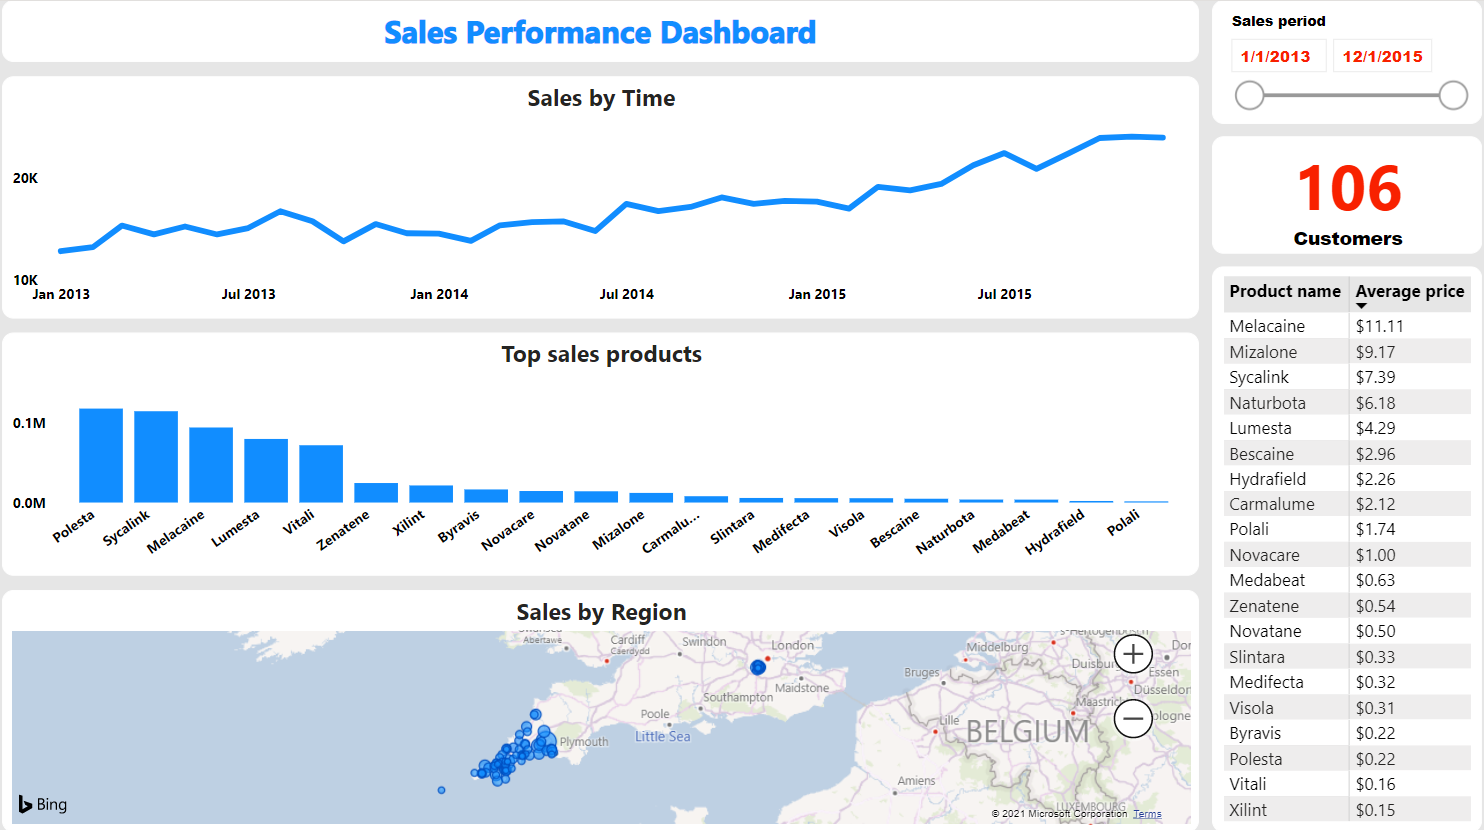

What the dashboard file says about the page in this screenshot:
{"tool":"powerbi","page":{"name":"Page 1","canvas":[1280,720],"ordinal":0},"visuals":[{"type":"lineChart","title":"Sales by Time","fields":{"Y":["Sum(talent5_0828452340 Sales.Sales)"],"Category":["talent5_0828452340 Sales.Date"]},"box":[0,65.8,1035.2,209.7],"z":0},{"type":"columnChart","title":"Top sales products","fields":{"Category":["talent5_0828452340 Sales.Product name"],"Y":["Sum(talent5_0828452340 Sales.Sales)"]},"box":[0,287.9,1035.2,210],"z":1000},{"type":"map","title":"Sales by Region","fields":{"Y":["talent5_0828452340 Sales.Latitude"],"X":["talent5_0828452340 Sales.Longitude"],"Size":["Sum(talent5_0828452340 Sales.Sales)"]},"box":[0,510.3,1035.2,209.7],"z":2000},{"type":"card","fields":{"Values":["Count(talent5_0828452340 Sales.Customer ID)"]},"box":[1046.5,118,233.7,101.7],"z":3000},{"type":"tableEx","fields":{"Values":["talent5_0828452340 Sales.Product name","Avg(talent5_0828452340 Sales.Mean price)"]},"box":[1046.5,230.3,233.7,489.7],"z":4000},{"type":"slicer","fields":{"Values":["talent5_0828452340 Sales.Date"]},"box":[1046.5,0,233.7,107.3],"z":5000},{"type":"textbox","box":[0,0,1035.2,53.3],"z":6000}]}

Visuals, with their boxes in screenshot pixels (x1, y1, x2, y2), scaled from the page's 1280x720 canvas onto the 1484x830 screenshot:
"Sales by Time" lineChart: bbox(0, 76, 1200, 318)
"Top sales products" columnChart: bbox(0, 332, 1200, 574)
"Sales by Region" map: bbox(0, 588, 1200, 829)
card - Count(talent5_0828452340 Sales.Customer ID): bbox(1213, 136, 1483, 253)
tableEx - talent5_0828452340 Sales.Product name x Avg(talent5_0828452340 Sales.Mean price): bbox(1213, 265, 1483, 829)
slicer - talent5_0828452340 Sales.Date: bbox(1213, 0, 1483, 124)
textbox: bbox(0, 0, 1200, 61)
